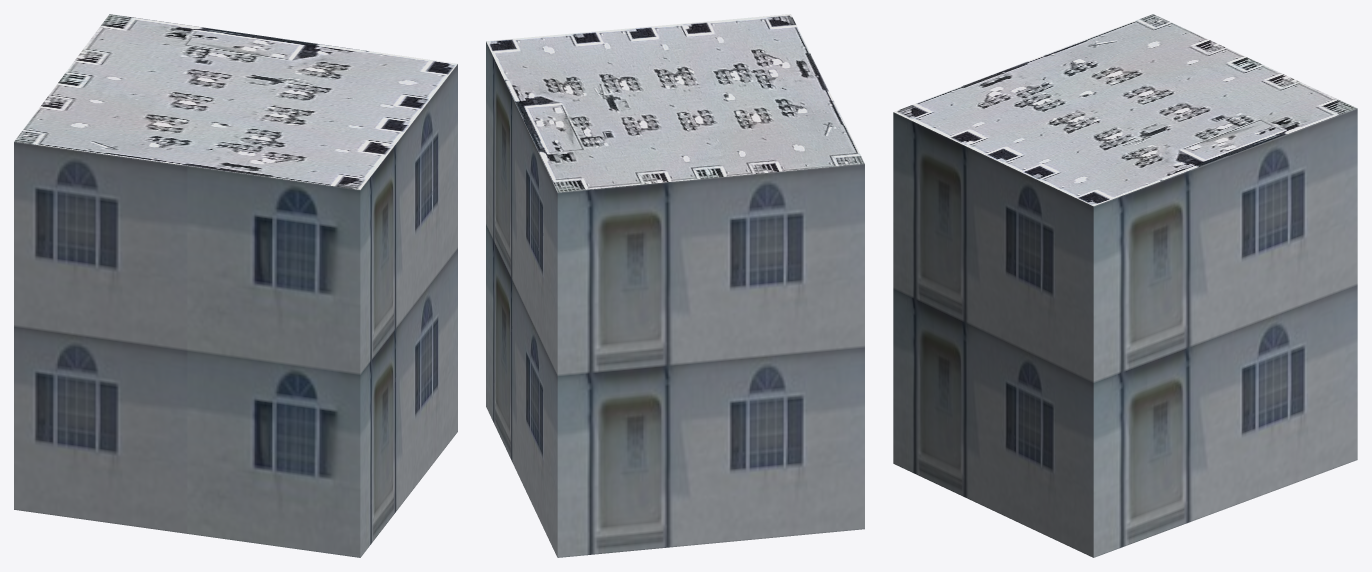
The model's file is ResTex__4742.fbx.
3 renders of one model, left to right at view 1: azimuth 30°, elevation 25°; view 2: azimuth 150°, elevation 25°; view 3: azimuth 270°, elevation 25°, orthographic. The views are drawn at different scales.
Parts seen in each view (by area): view 1: CityEngineMaterial_17_m, CityEngineMaterial_m; view 2: CityEngineMaterial_17_m, CityEngineMaterial_m; view 3: CityEngineMaterial_17_m, CityEngineMaterial_m.
Boxes of the visible parts, x1,y1,x2,y2 form: CityEngineMaterial_17_m: (14,64,457,557); CityEngineMaterial_m: (14,14,457,189); CityEngineMaterial_17_m: (486,41,864,557); CityEngineMaterial_m: (486,14,864,192); CityEngineMaterial_17_m: (893,108,1357,557); CityEngineMaterial_m: (893,14,1357,206).
Size of the model in its own units: 7.04 by 6 by 7.18.
2 materials, 2 textured.
